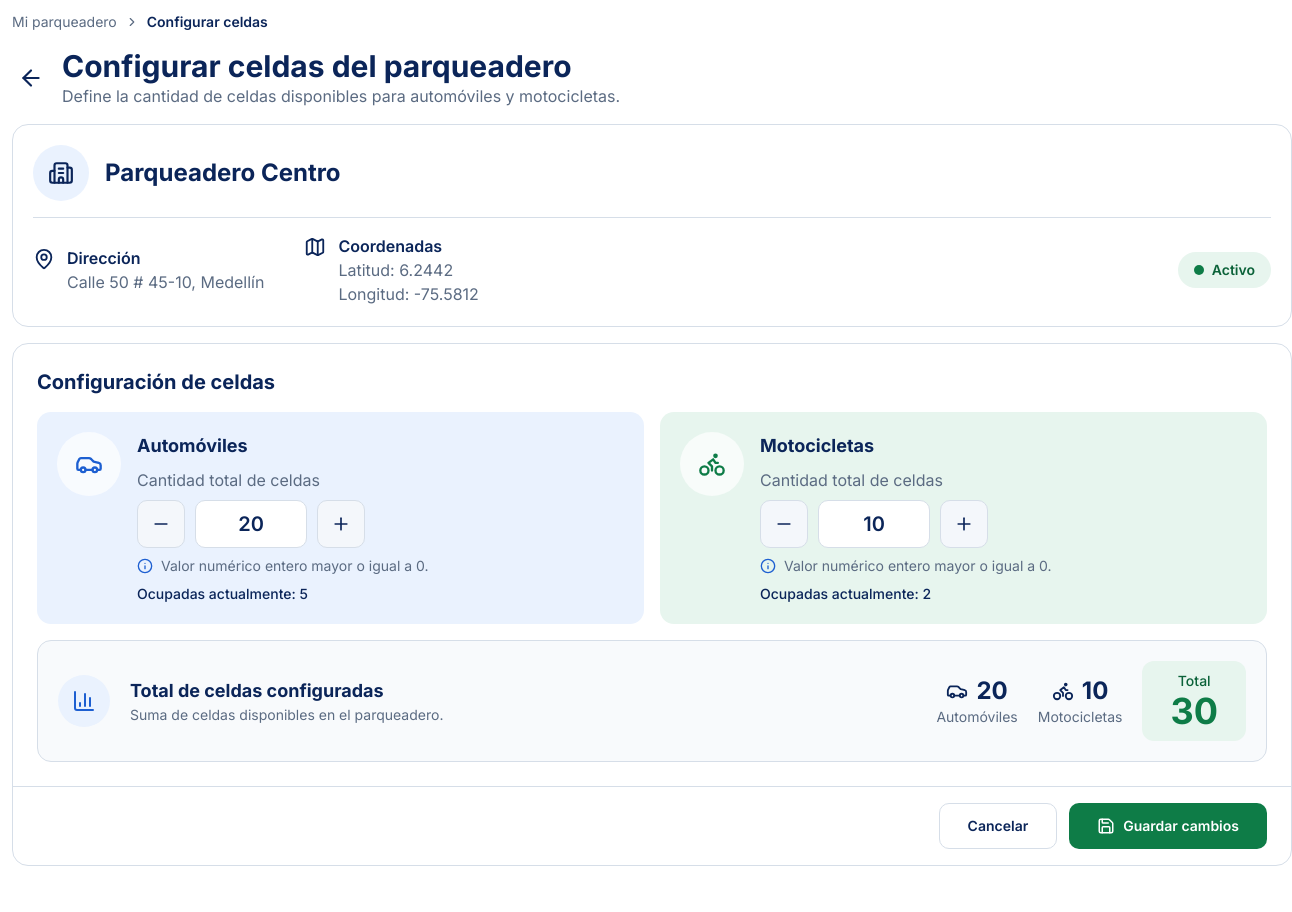
it: ConfigureSpaces › un error de concurrencia del servidor muestra el mensaje y recarga
Click the button named "Aumentar Celdas de Automóviles" at (341, 524), box [317,500,365,548]
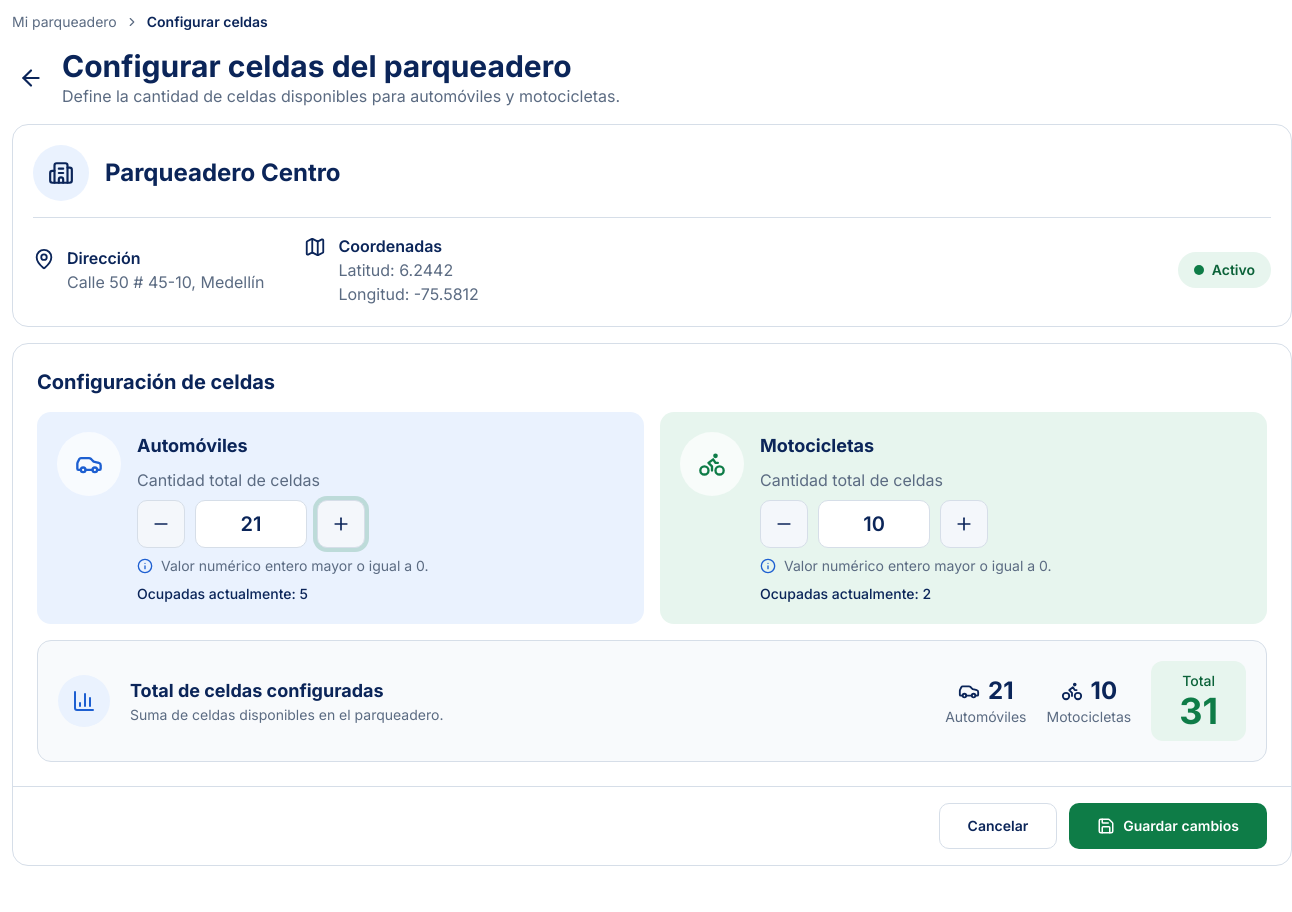
Click the button "Guardar cambios" at (1168, 826), box [1069,803,1267,849]
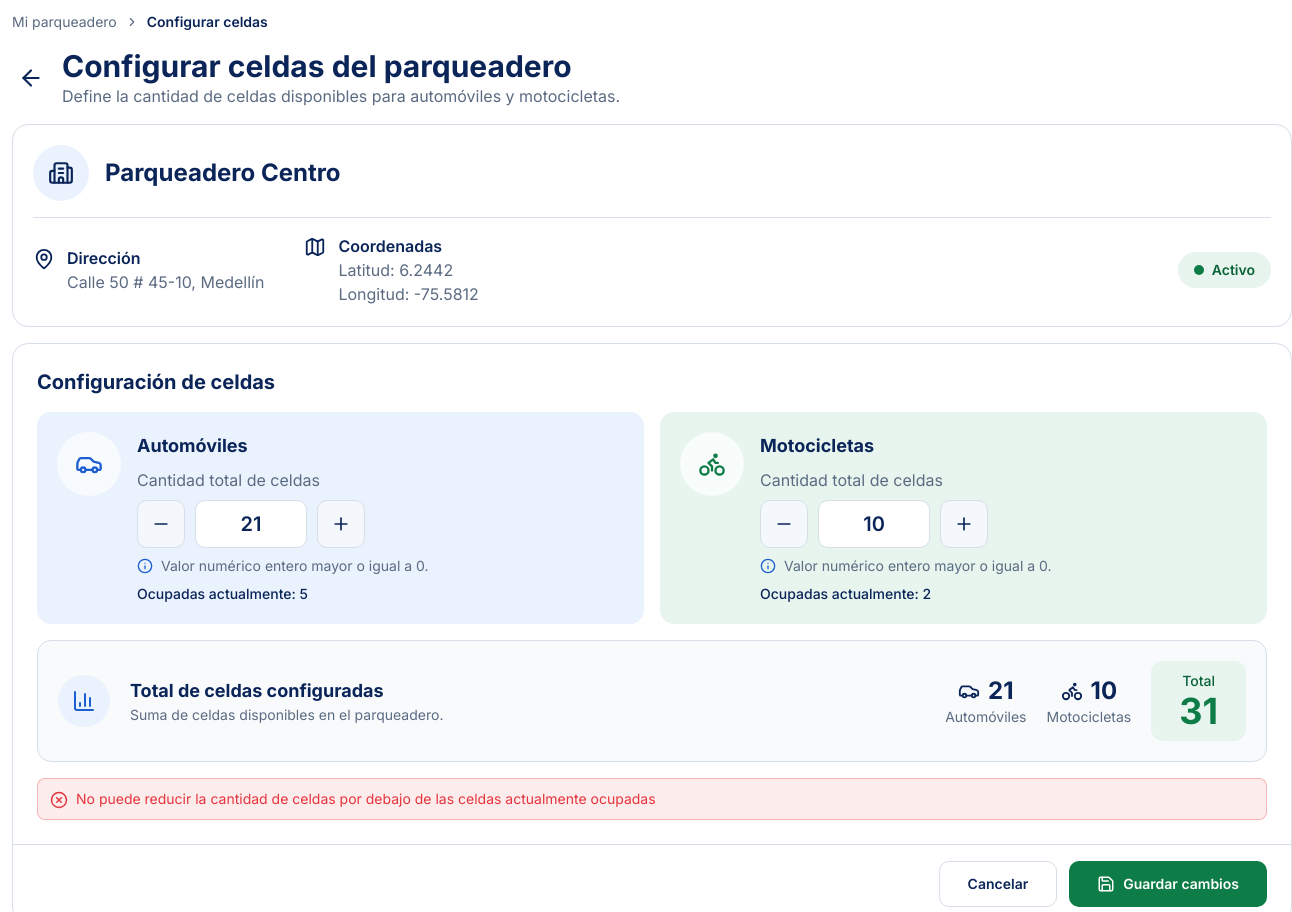
Check: the text "No puede reducir la cantidad de celdas por debajo de las celdas actualmente ocupadas" is shown, box [76,790,656,807]
